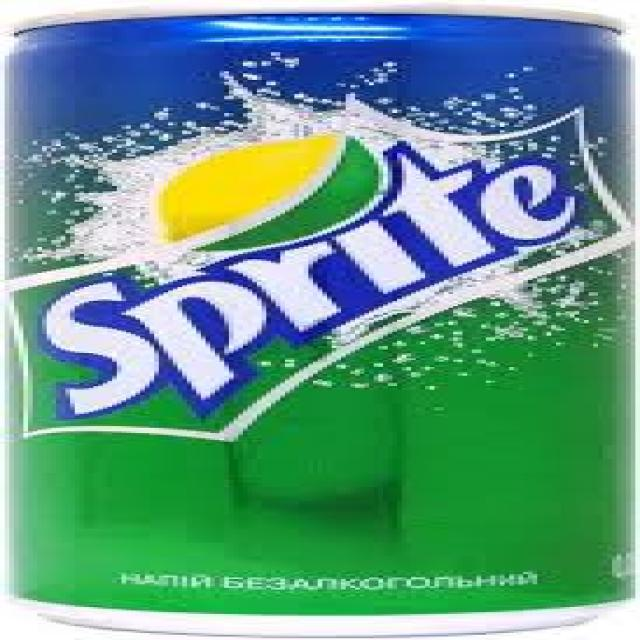aluminum_can: (9, 16, 631, 636)
